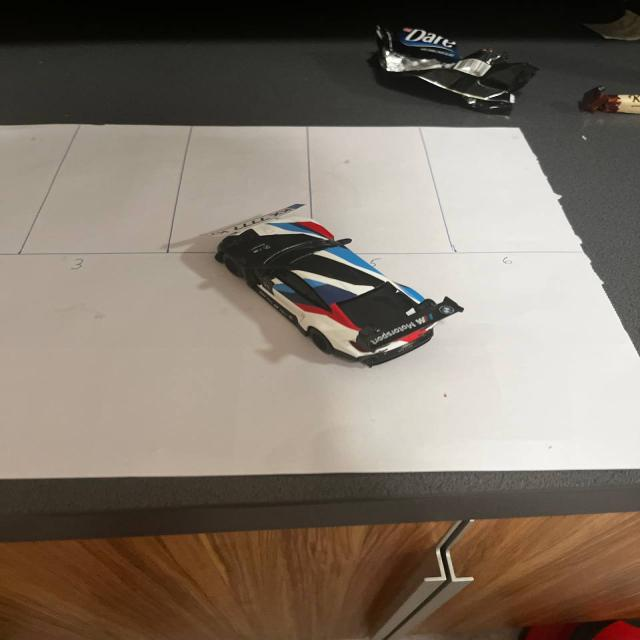cars: (177, 185, 477, 395)
